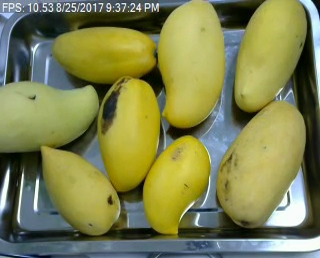Mango: (215, 98, 307, 230), (155, 4, 234, 130), (32, 139, 124, 244), (233, 1, 310, 110), (138, 134, 213, 238), (0, 80, 99, 154), (101, 70, 158, 194), (50, 26, 162, 87)
